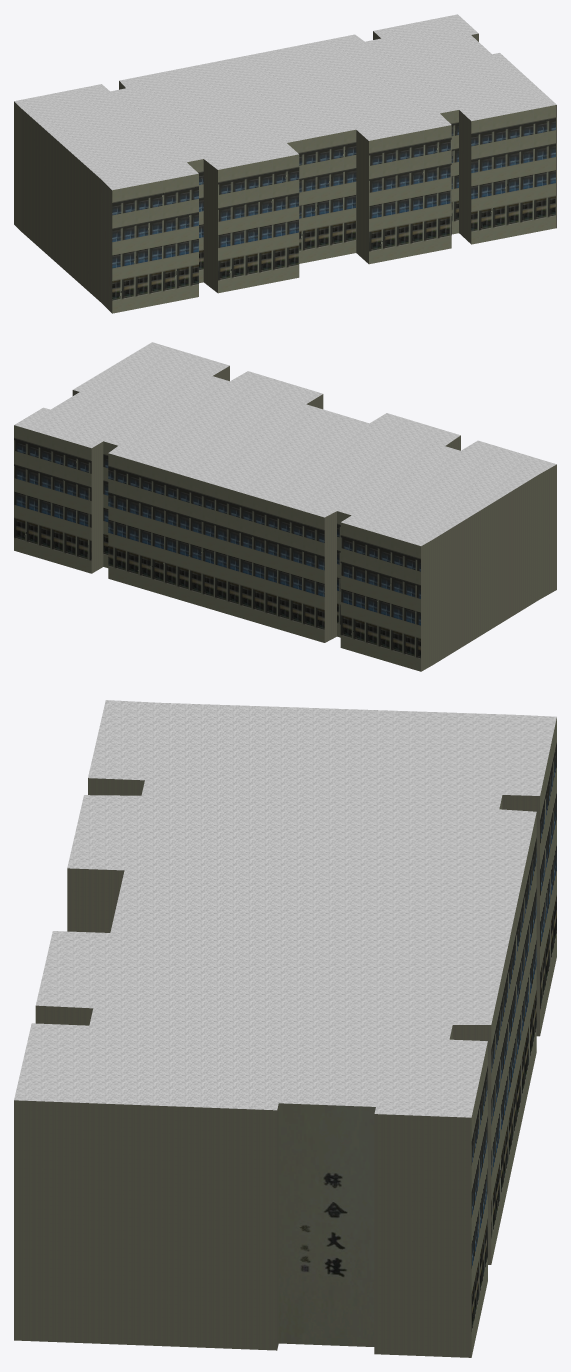
File: zhdl.gltf
3 views of the same model, one above another, from view 1: azimuth 30°, elevation 25°; view 2: azimuth 150°, elevation 25°; view 3: azimuth 270°, elevation 25° (orthographic). The views are drawn at different scales.
Visible parts, largest first — view 1: root; view 2: root; view 3: root.
Boxes of the visible parts, left/top/right/bottom form: root: left=14, top=14, right=556, bottom=313; root: left=14, top=342, right=556, bottom=671; root: left=14, top=700, right=556, bottom=1357.
Bounding box in the file's own units: 56.55 × 15.17 × 31.07.
Materials: 5 (5 with a texture image).
